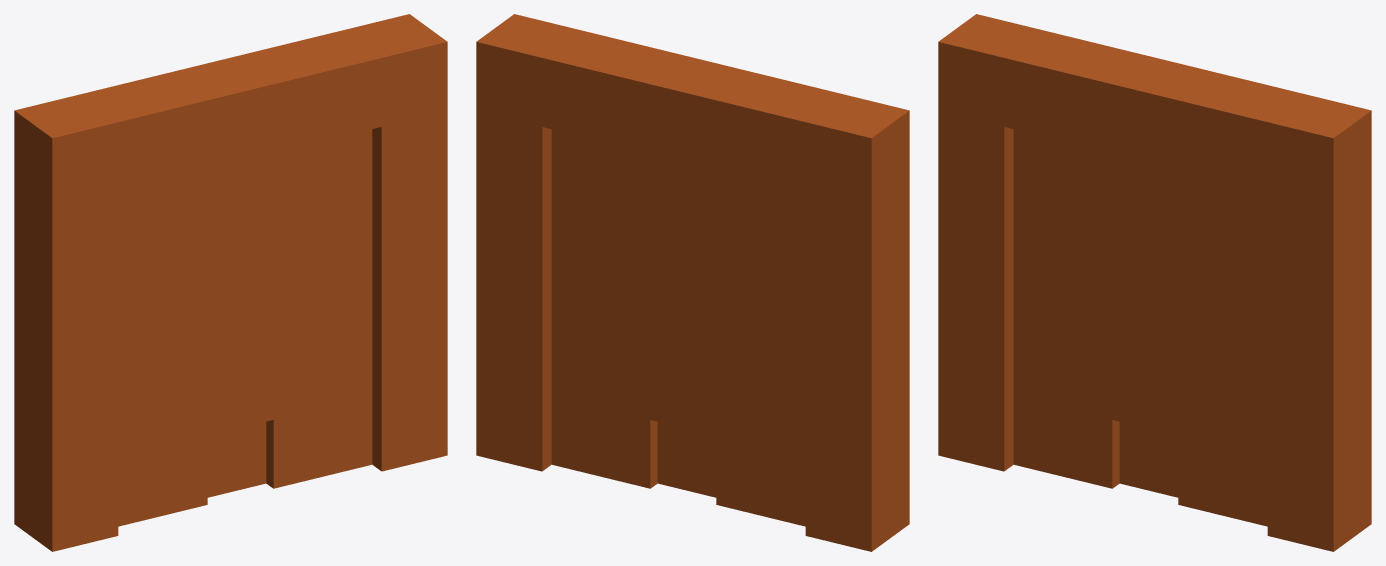
Rendered from door.FBX.
3 views of the same model, side by side, from view 1: azimuth 30°, elevation 25°; view 2: azimuth 150°, elevation 25°; view 3: azimuth 330°, elevation 25° (orthographic).
Visible parts, largest first — view 1: Box001; view 2: Box001; view 3: Box001.
Boxes of the visible parts, x1,y1,x2,y2 form: Box001: (14,14,447,551); Box001: (476,14,909,551); Box001: (938,14,1371,551).
Size of the model in its own units: 9600 by 9600 by 1600.
